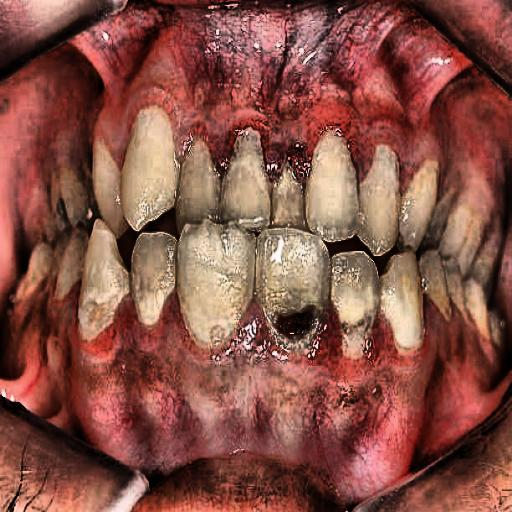Gingivitis: (34, 305, 465, 459), (74, 54, 464, 174)
